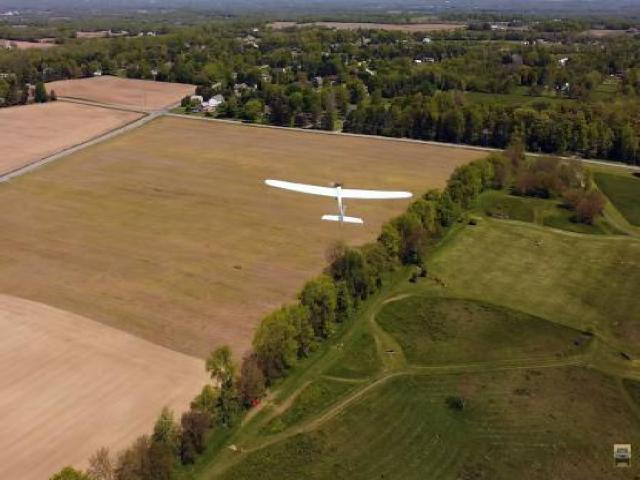uav: (262, 166, 418, 234)
